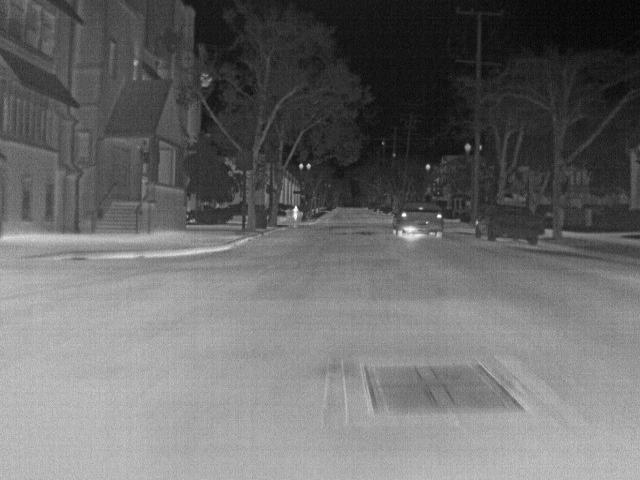car: (473, 204, 539, 246), (391, 200, 445, 238), (376, 202, 390, 214)
person: (291, 204, 300, 222)
